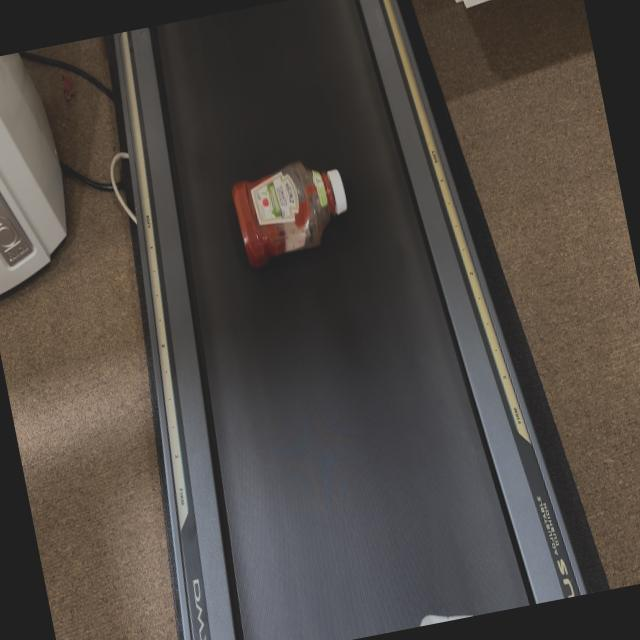Trash: (228, 148, 358, 264)
